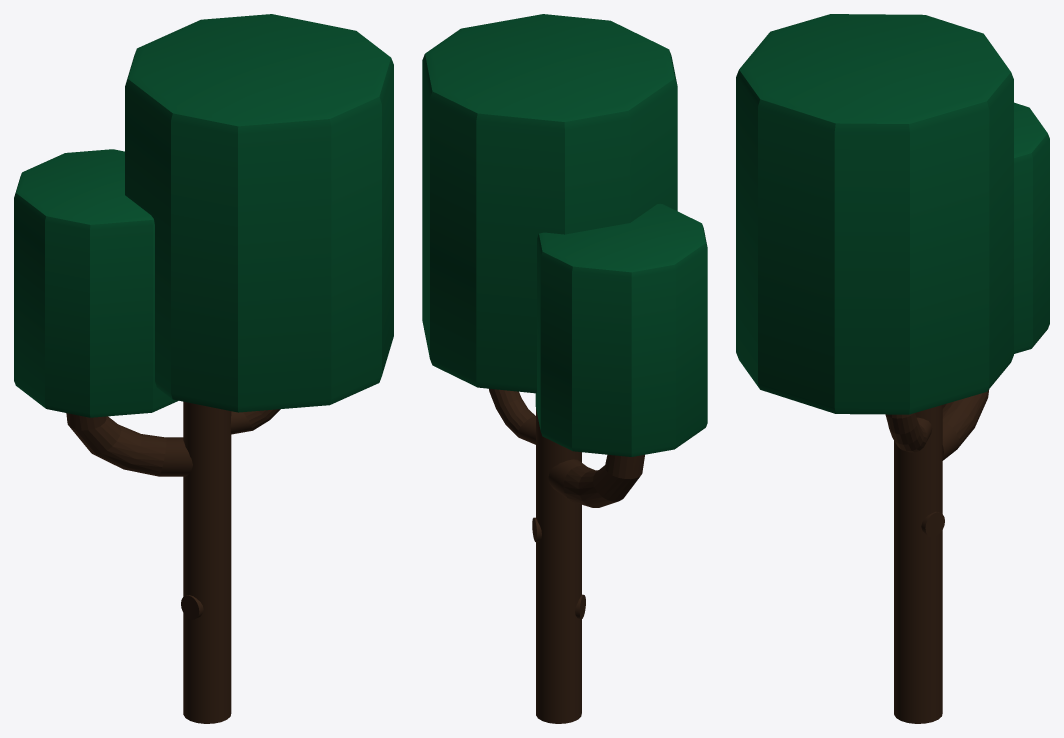
Rendered from Árbol 3.fbx.
The picture shows the model from 3 angles, left to right: view 1: azimuth 30°, elevation 25°; view 2: azimuth 150°, elevation 25°; view 3: azimuth 270°, elevation 25°; orthographic projection. The views are drawn at different scales.
Visible parts, largest first — view 1: Árbol 1; view 2: Árbol 1; view 3: Árbol 1.
Boxes of the visible parts, bbox=[...] form: Árbol 1: bbox=[14, 14, 393, 723]; Árbol 1: bbox=[422, 14, 707, 723]; Árbol 1: bbox=[736, 14, 1049, 723].
Bounding box in the file's own units: 114 × 233 × 100.
